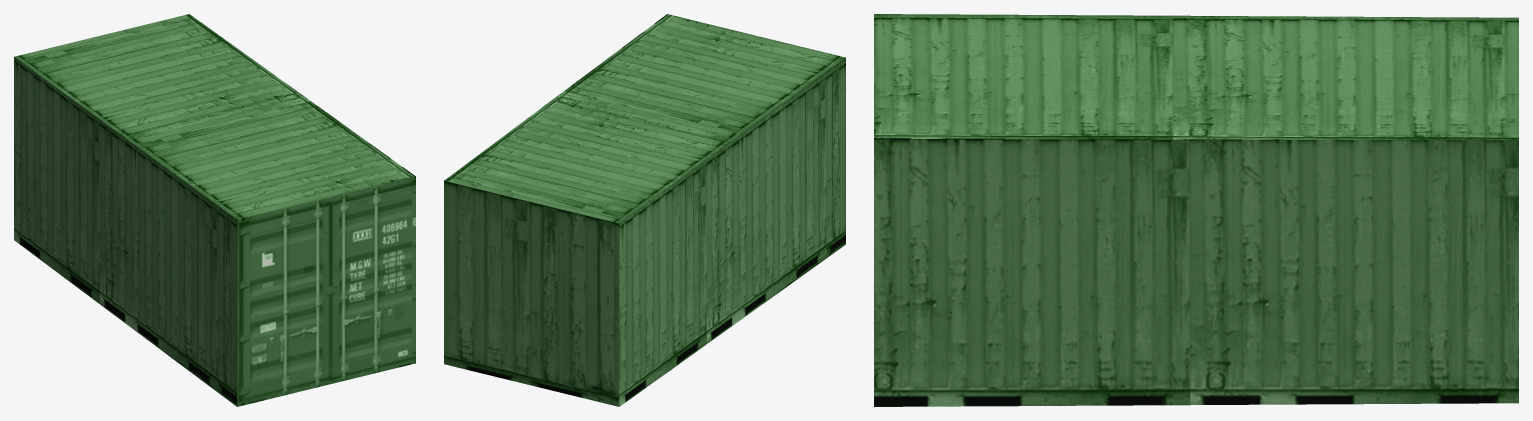
Rendered from Container Green.FBX.
3 renders of one model, left to right at view 1: azimuth 30°, elevation 25°; view 2: azimuth 150°, elevation 25°; view 3: azimuth 270°, elevation 25°, orthographic. The views are drawn at different scales.
Parts seen in each view (by area): view 1: Container Green; view 2: Container Green; view 3: Container Green.
Boxes of the visible parts, x1=… form: Container Green: x1=14, y1=14, x2=415, y2=406; Container Green: x1=444, y1=14, x2=845, y2=406; Container Green: x1=874, y1=14, x2=1518, y2=406.
Size of the model in its own units: 91.74 by 91.74 by 200.
1 material, 1 textured.
